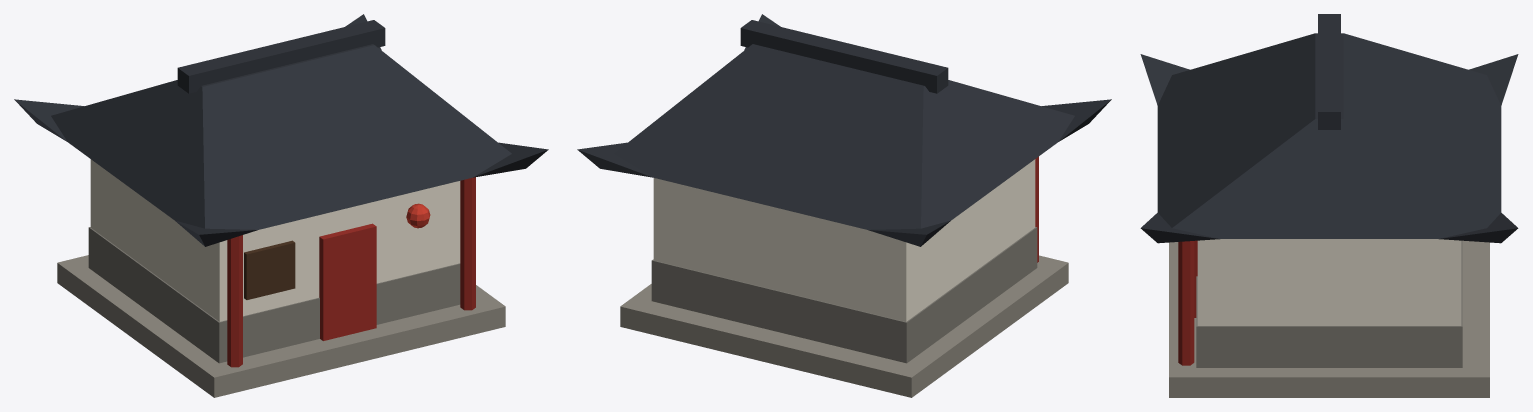
File: house.glb
The picture shows the model from 3 angles, left to right: view 1: azimuth 30°, elevation 25°; view 2: azimuth 150°, elevation 25°; view 3: azimuth 270°, elevation 25°; orthographic projection. The views are drawn at different scales.
Visible parts, largest first — view 1: House; view 2: House; view 3: House.
Part boxes in pixels (x1=…): House: x1=14, y1=14, x2=548, y2=397; House: x1=577, y1=14, x2=1111, y2=397; House: x1=1140, y1=14, x2=1518, y2=397.
Size of the model in its own units: 7.2 by 5.06 by 6.6.
